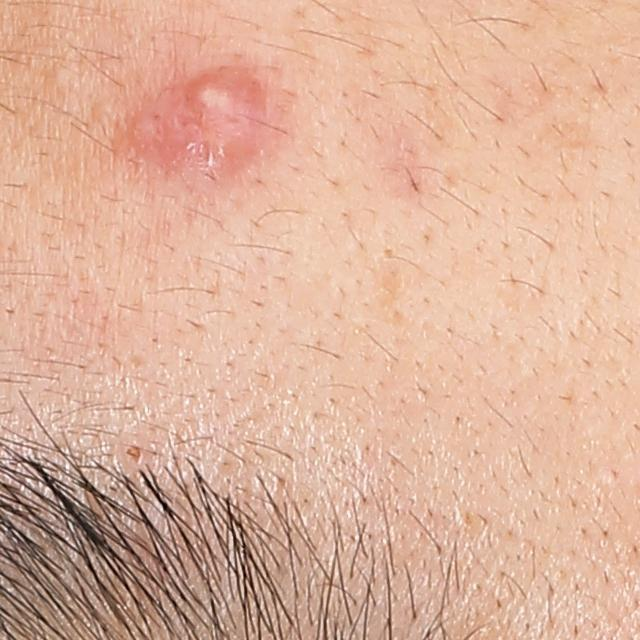comedo: (45, 60, 73, 90), (119, 439, 148, 464)
pustule: (192, 64, 273, 163)
